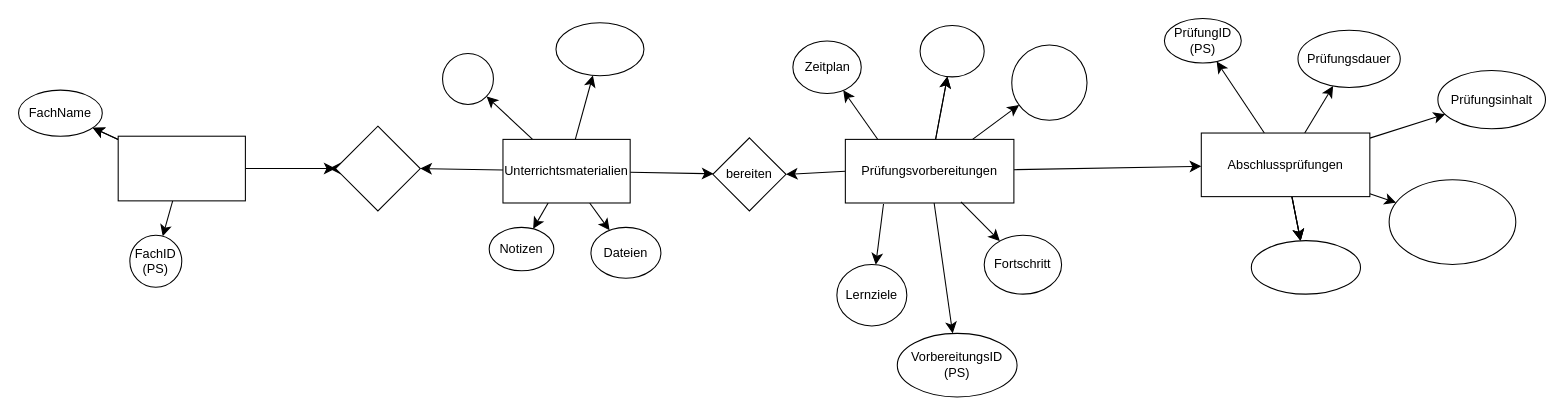
The diagram is 1565 pixels wide and 416 high, and some of its shapes have lost their labels. The centre of each missing label's shape, as x and y in pixels:
"braucht" belongs at [377,168].
"Fach" belongs at [181,168].
"FachID (FS)" belongs at [951,50].
"MaterialID (PS)" belongs at [599,49].
"Prüfungstermin" belongs at [1305,267].
"Prüfungstyp" belongs at [1049,82].
"Thema" belongs at [467,78].
"Vorbereitungsstatus" belongs at [1452,221].
